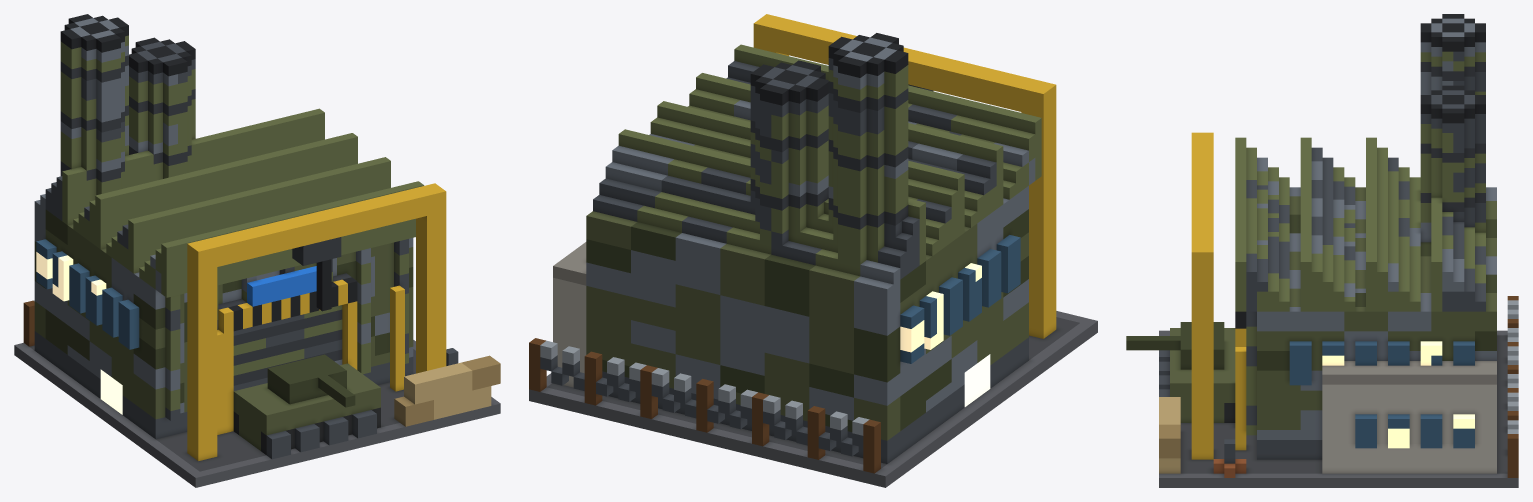
Rendered from cm_factory_1.glb.
3 renders of one model, left to right at view 1: azimuth 30°, elevation 25°; view 2: azimuth 150°, elevation 25°; view 3: azimuth 270°, elevation 25°, orthographic. The views are drawn at different scales.
Visible parts, largest first — view 1: cm_factory_1_body; view 2: cm_factory_1_body; view 3: cm_factory_1_body.
Boxes of the visible parts, <box> form: cm_factory_1_body: <box>14,14,500,487</box>; cm_factory_1_body: <box>529,14,1097,487</box>; cm_factory_1_body: <box>1126,14,1518,487</box>.
Bounding box in the file's own units: 2 × 2.12 × 2.25.
1 material, 1 textured.
